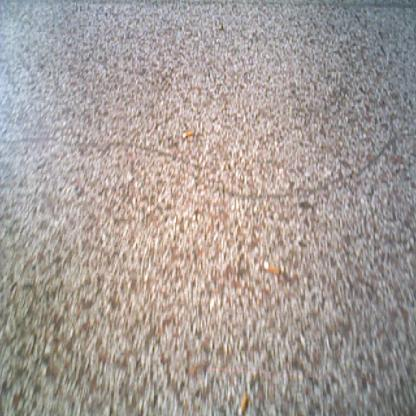dirty: (262, 259, 281, 277), (236, 391, 249, 416), (181, 128, 195, 140), (218, 23, 225, 31)
